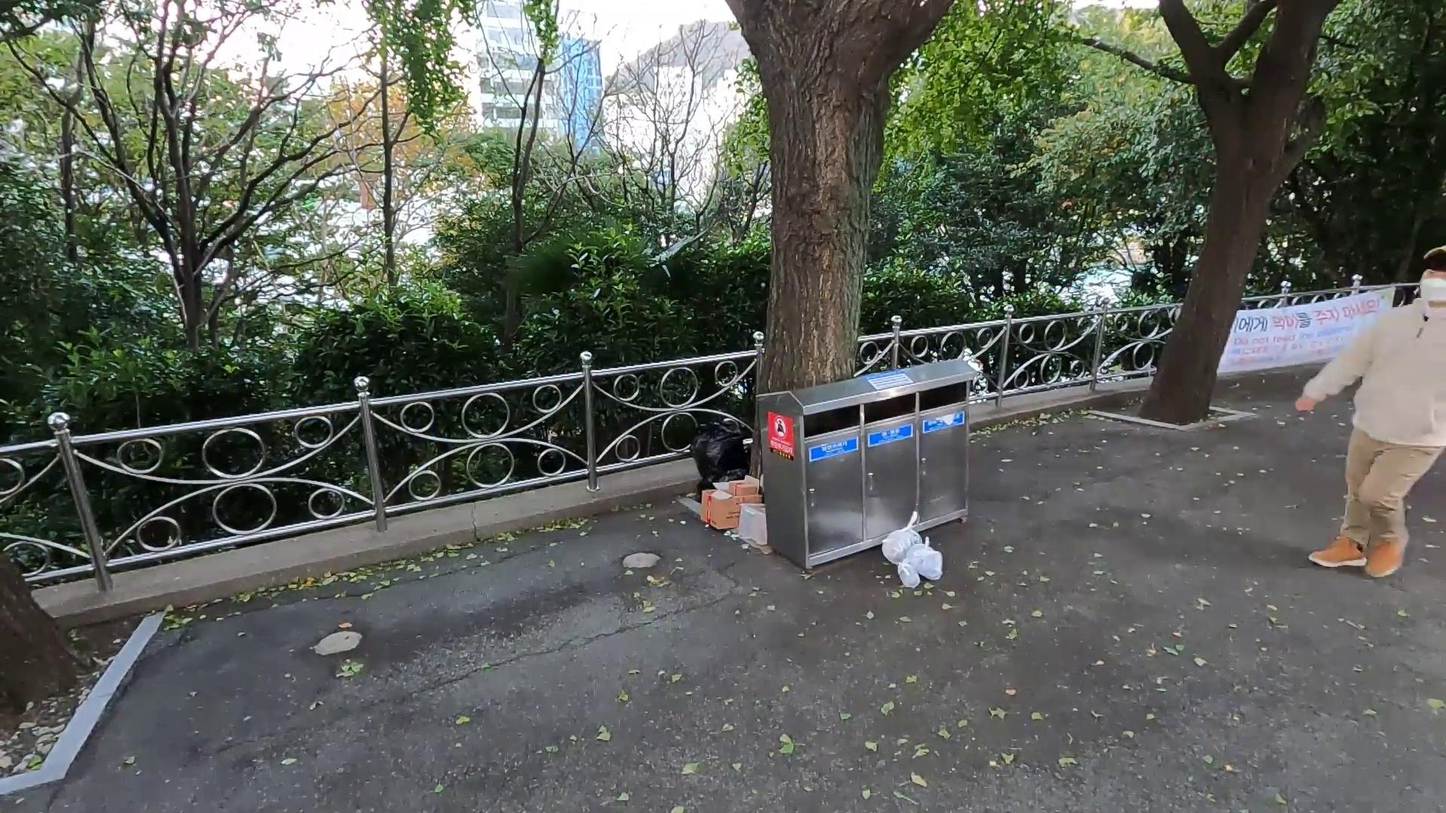person: (1283, 231, 1446, 587)
trash: (690, 419, 753, 477), (699, 482, 764, 531), (882, 509, 924, 567), (696, 469, 754, 504), (906, 537, 945, 582), (736, 497, 767, 547), (895, 559, 923, 591), (726, 476, 759, 499)
